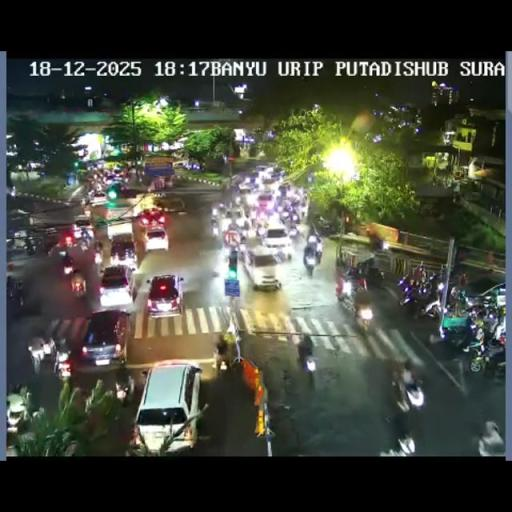Car: (130, 360, 202, 454), (78, 308, 132, 370), (145, 274, 184, 318), (98, 265, 135, 309), (26, 334, 58, 375), (261, 220, 292, 258), (220, 207, 250, 245), (6, 390, 30, 433), (109, 238, 137, 268), (104, 215, 134, 243), (143, 225, 169, 252), (42, 230, 68, 256), (139, 208, 167, 227), (313, 214, 337, 236), (74, 214, 94, 238), (155, 196, 185, 211), (257, 192, 274, 210), (254, 164, 272, 177), (91, 190, 107, 204), (267, 171, 283, 185), (238, 182, 252, 194), (172, 160, 188, 169)
Motorcycle: (399, 270, 440, 316), (466, 326, 504, 374), (394, 370, 424, 412), (295, 333, 316, 382), (214, 329, 236, 372), (352, 289, 374, 330), (276, 368, 299, 406), (379, 433, 416, 456), (114, 368, 135, 402), (54, 342, 72, 378), (448, 283, 469, 313), (6, 276, 25, 309), (462, 301, 490, 323), (364, 263, 386, 290), (334, 270, 349, 300), (349, 272, 368, 295), (303, 242, 317, 268), (280, 206, 298, 226), (72, 275, 86, 298), (370, 232, 386, 252), (61, 251, 74, 275), (75, 234, 91, 252), (286, 222, 299, 240), (138, 369, 149, 388), (24, 239, 37, 255), (306, 230, 318, 246), (314, 240, 322, 263), (210, 220, 220, 237), (94, 239, 104, 255), (242, 217, 252, 232), (234, 194, 242, 206), (80, 198, 87, 210)
